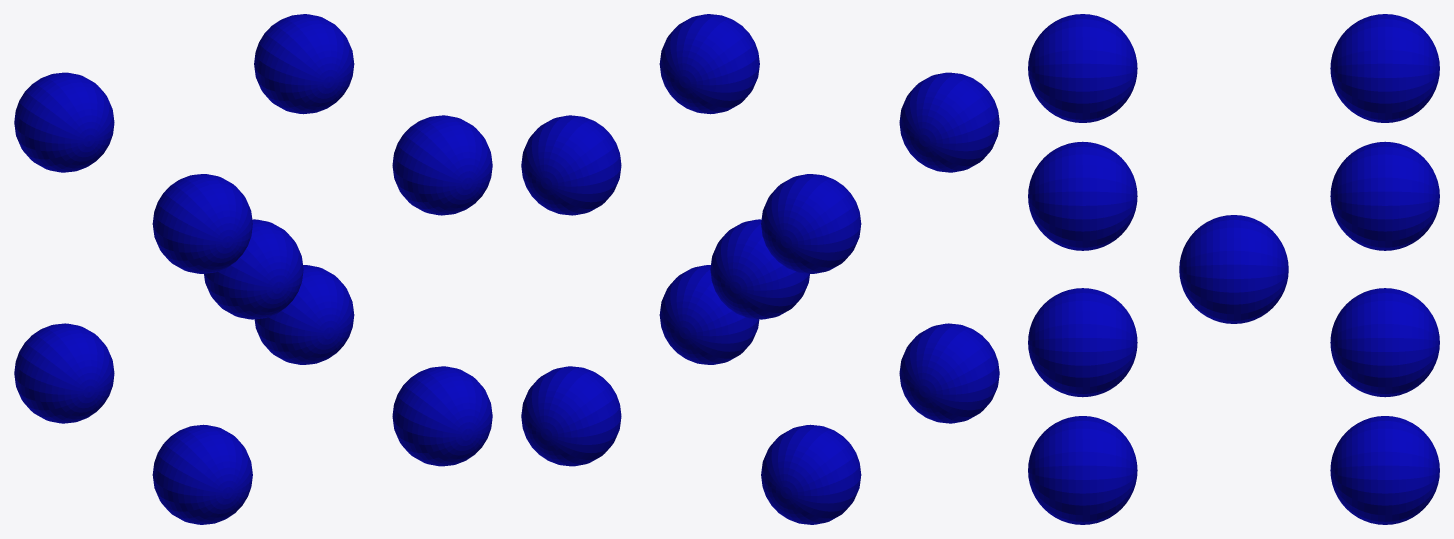
Rendered from Cr_wrl.fbx.
3 views of the same model, side by side, from view 1: azimuth 30°, elevation 25°; view 2: azimuth 150°, elevation 25°; view 3: azimuth 270°, elevation 25° (orthographic). The views are drawn at different scales.
Visible parts, largest first — view 1: atom0_IndexedFaceSet.007, atom0_IndexedFaceSet, atom0_IndexedFaceSet.006, atom0_IndexedFaceSet.004, atom0_IndexedFaceSet.003, atom0_IndexedFaceSet.005, atom0_IndexedFaceSet.002, atom0_IndexedFaceSet.008, atom0_IndexedFaceSet.001; view 2: atom0_IndexedFaceSet.006, atom0_IndexedFaceSet.001, atom0_IndexedFaceSet.007, atom0_IndexedFaceSet.005, atom0_IndexedFaceSet.002, atom0_IndexedFaceSet.004, atom0_IndexedFaceSet.003, atom0_IndexedFaceSet.008, atom0_IndexedFaceSet; view 3: atom0_IndexedFaceSet.005, atom0_IndexedFaceSet.004, atom0_IndexedFaceSet.003, atom0_IndexedFaceSet.002, atom0_IndexedFaceSet.007, atom0_IndexedFaceSet.006, atom0_IndexedFaceSet.001, atom0_IndexedFaceSet, atom0_IndexedFaceSet.008.
Boxes of the visible parts, x1,y1,x2,y2 form: atom0_IndexedFaceSet.007: [14, 72, 114, 172]; atom0_IndexedFaceSet: [392, 366, 492, 466]; atom0_IndexedFaceSet.006: [152, 174, 252, 273]; atom0_IndexedFaceSet.004: [152, 424, 252, 524]; atom0_IndexedFaceSet.003: [254, 14, 354, 114]; atom0_IndexedFaceSet.005: [14, 323, 114, 423]; atom0_IndexedFaceSet.002: [392, 115, 492, 215]; atom0_IndexedFaceSet.008: [204, 219, 303, 319]; atom0_IndexedFaceSet.001: [254, 265, 354, 364]; atom0_IndexedFaceSet.006: [899, 72, 999, 172]; atom0_IndexedFaceSet.001: [521, 366, 621, 466]; atom0_IndexedFaceSet.007: [761, 174, 861, 273]; atom0_IndexedFaceSet.005: [761, 424, 861, 524]; atom0_IndexedFaceSet.002: [659, 14, 759, 114]; atom0_IndexedFaceSet.004: [899, 323, 999, 423]; atom0_IndexedFaceSet.003: [521, 115, 621, 215]; atom0_IndexedFaceSet.008: [710, 219, 809, 319]; atom0_IndexedFaceSet: [659, 265, 759, 364]; atom0_IndexedFaceSet.005: [1330, 288, 1439, 397]; atom0_IndexedFaceSet.004: [1028, 288, 1137, 397]; atom0_IndexedFaceSet.003: [1330, 141, 1439, 250]; atom0_IndexedFaceSet.002: [1028, 141, 1137, 250]; atom0_IndexedFaceSet.007: [1330, 14, 1439, 122]; atom0_IndexedFaceSet.006: [1028, 14, 1137, 122]; atom0_IndexedFaceSet.001: [1330, 416, 1439, 524]; atom0_IndexedFaceSet: [1028, 416, 1137, 524]; atom0_IndexedFaceSet.008: [1179, 215, 1288, 323].
Bounding box in the file's own units: 388 × 388 × 388.
